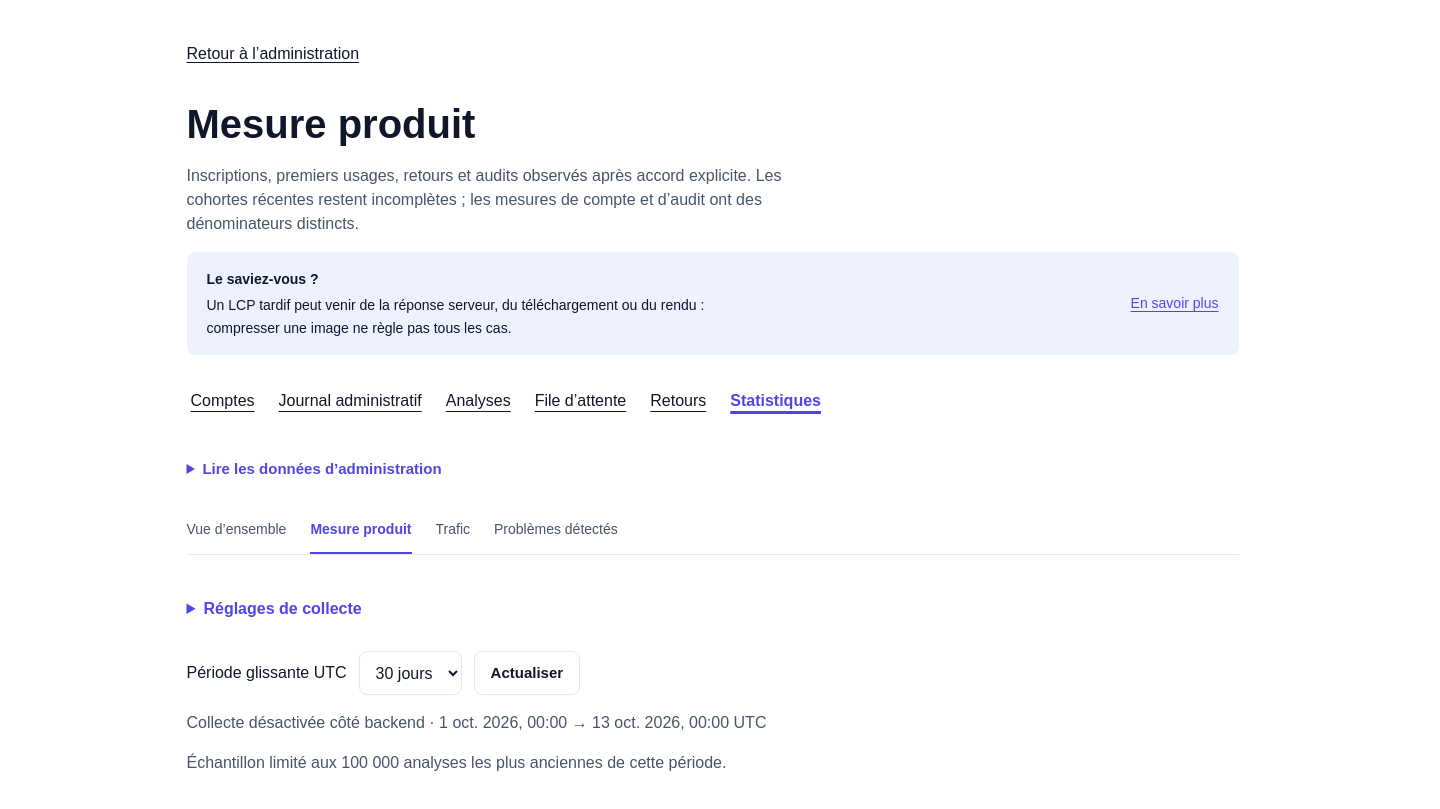
Test: aborts stale periods, clears data while loading, and supports refresh after errors
The width and height of the screenshot is (1440, 809).
Select "7 jours" in the dropdown labelled "Période glissante UTC": (410, 673) [359,651,462,695]
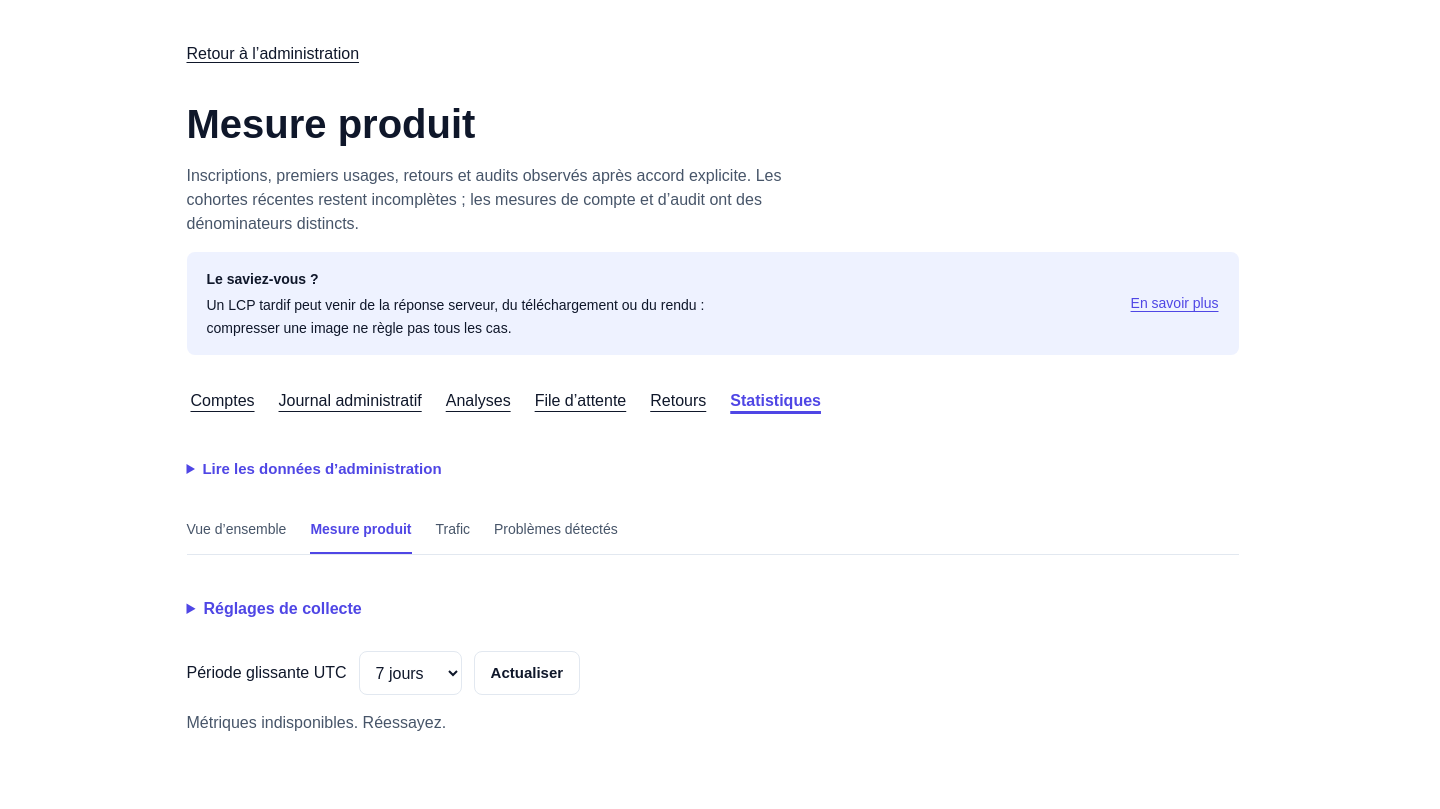
Expected: the text "24" is not shown
Expected: the message shows "indisponibles", [186,714,446,731]
Click the button "Actualiser": (527, 673) [474,651,580,695]
(page scrolled)
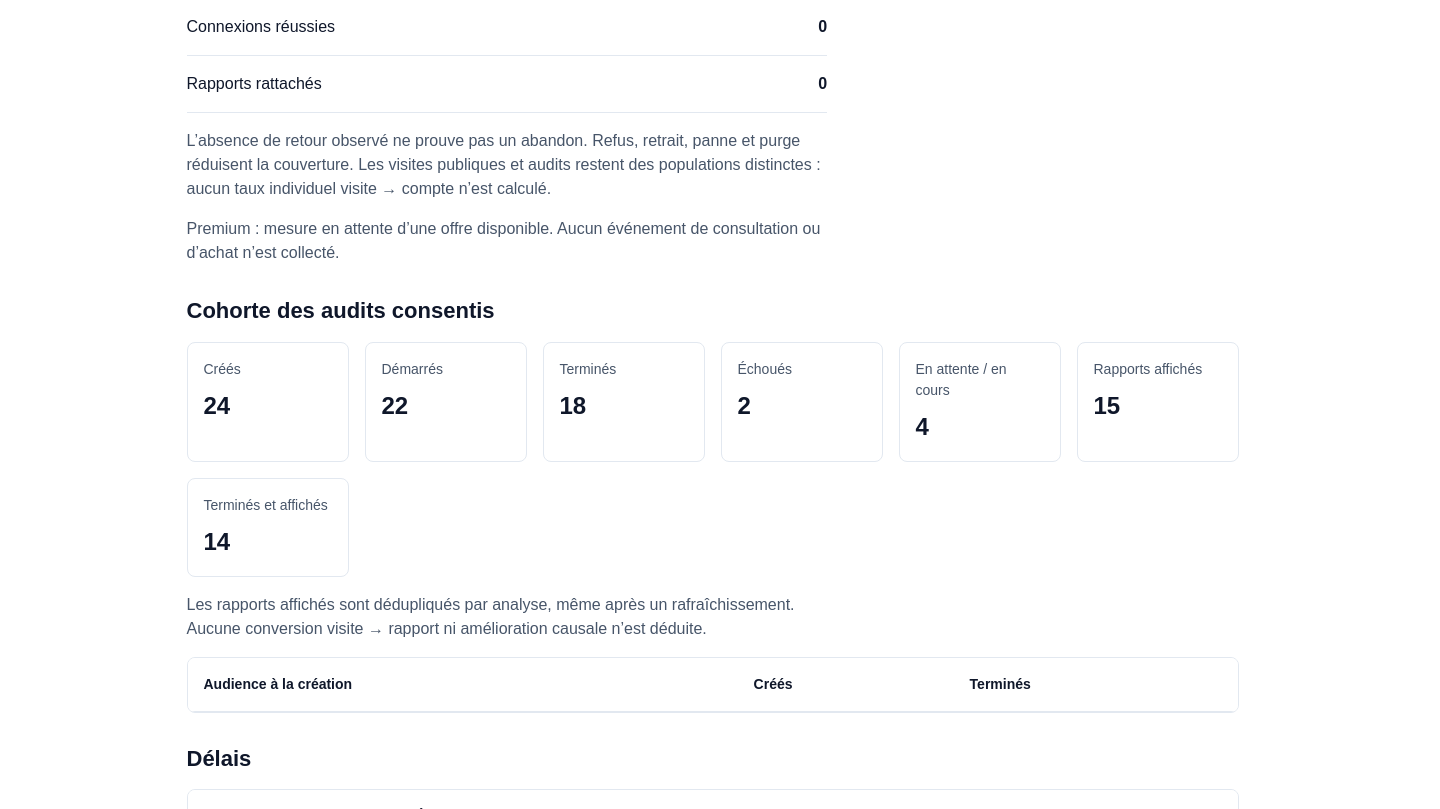
Expected: the text "24" is shown, [204,392,230,418]
